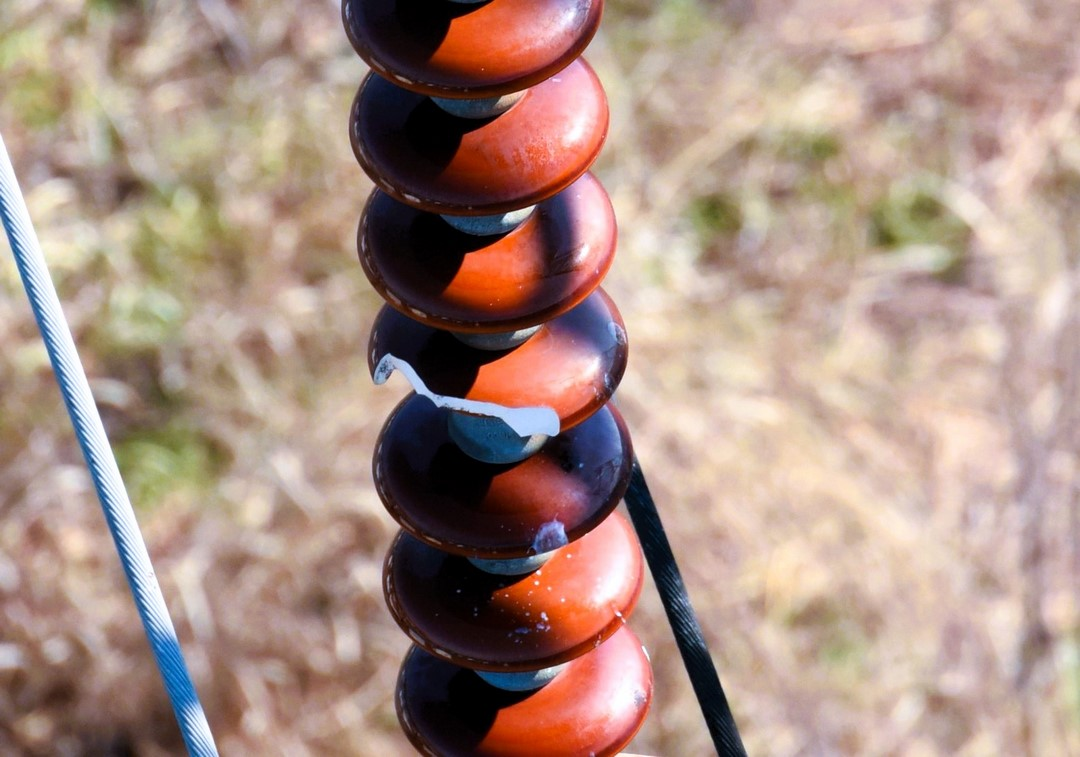insulator breakage: (355, 277, 631, 451)
